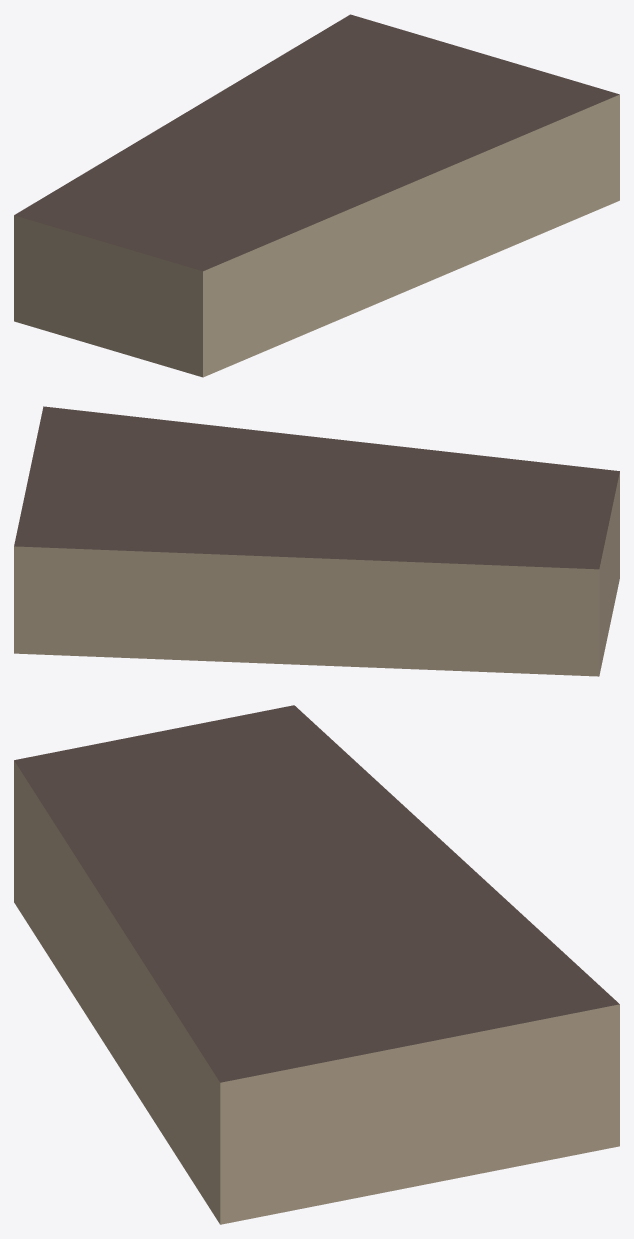
3 views of the same model, one above another, from view 1: azimuth 30°, elevation 25°; view 2: azimuth 150°, elevation 25°; view 3: azimuth 270°, elevation 25° (orthographic). The views are drawn at different scales.
Visible parts, largest first — view 1: HP-w859457490; view 2: HP-w859457490; view 3: HP-w859457490.
Part boxes in pixels (x1=…): HP-w859457490: x1=14, y1=14, x2=619, y2=377; HP-w859457490: x1=14, y1=406, x2=619, y2=676; HP-w859457490: x1=14, y1=705, x2=619, y2=1224.
Bounding box in the file's own units: 51.3 × 9 × 34.79.
